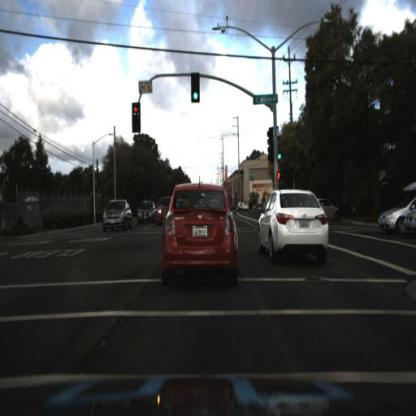car: (163, 181, 241, 297), (256, 188, 331, 267), (379, 202, 416, 240), (101, 196, 133, 234), (307, 197, 343, 222), (157, 189, 180, 228), (135, 198, 156, 231)
trafficLight: (191, 73, 202, 105), (277, 141, 285, 163)
trafficLight-RedLeft: (133, 102, 142, 134)
